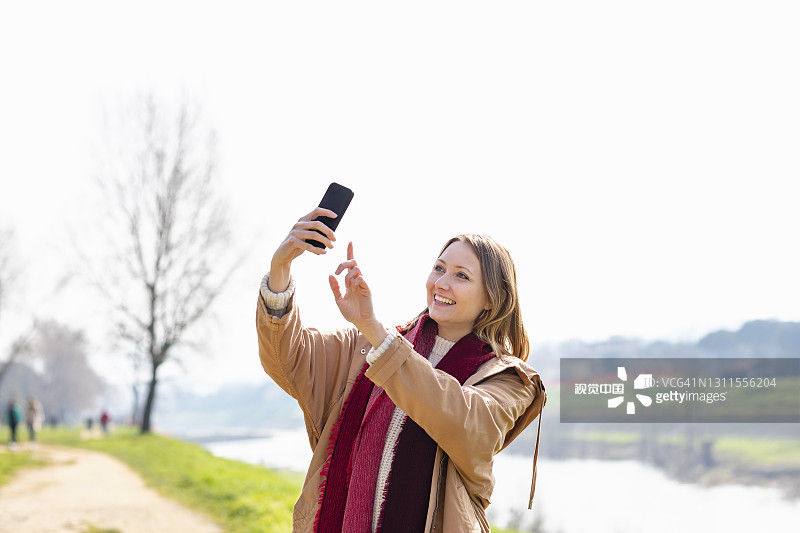no-phone: (320, 241, 390, 339)
taking photos: (261, 186, 344, 292)
